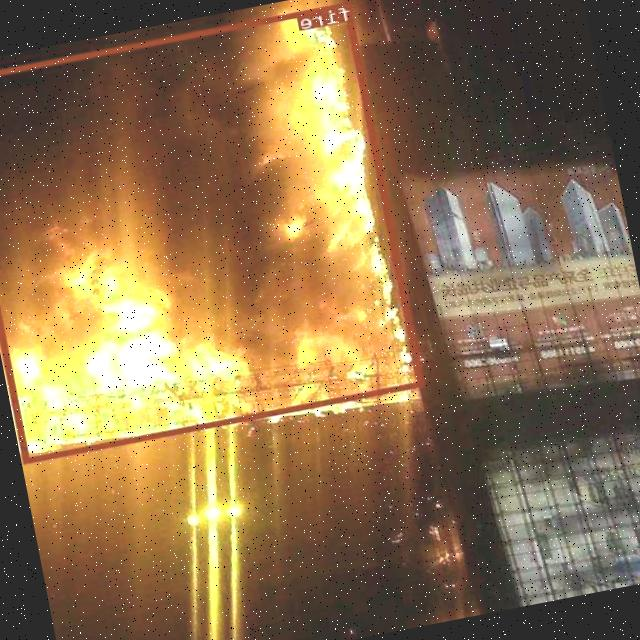fire: (0, 1, 425, 462)
